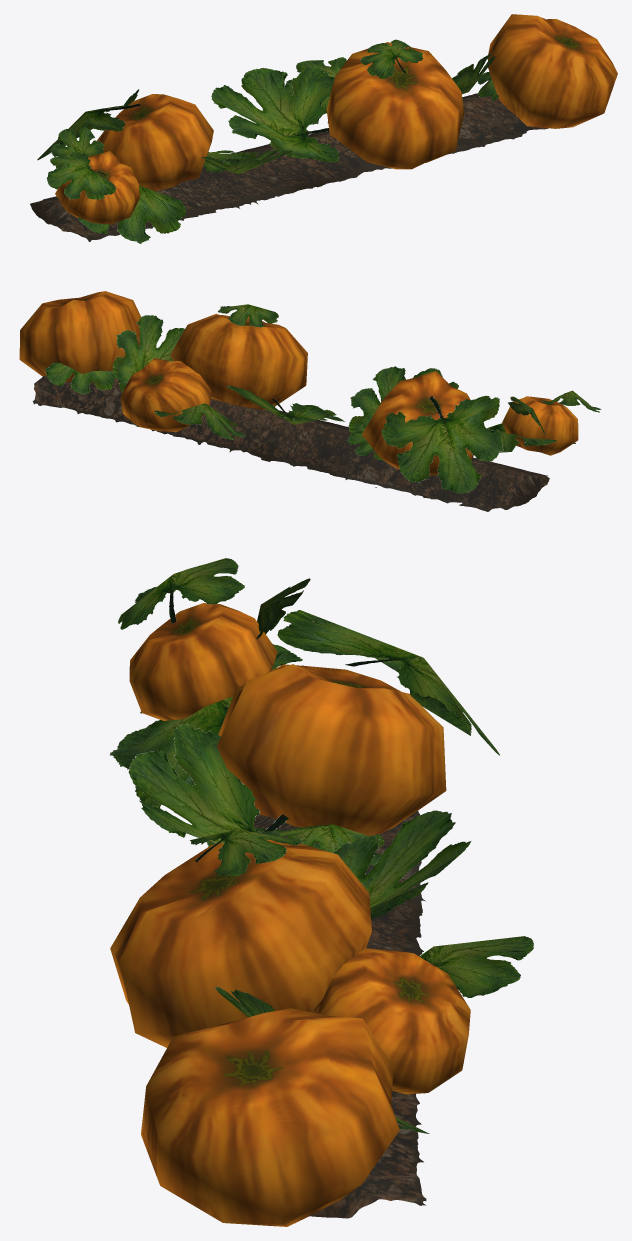
The model's file is SM_GardenBed_7.FBX.
3 views of the same model, one above another, from view 1: azimuth 30°, elevation 25°; view 2: azimuth 150°, elevation 25°; view 3: azimuth 270°, elevation 25° (orthographic). The views are drawn at different scales.
Parts seen in each view (by area): view 1: GardenBed_7; view 2: GardenBed_7; view 3: GardenBed_7.
Part boxes in pixels (x1,y1,x2,y2): GardenBed_7: (30,14,617,243); GardenBed_7: (19,291,601,511); GardenBed_7: (110,558,533,1226).
Size of the model in its own units: 171 by 69.56 by 32.81.
